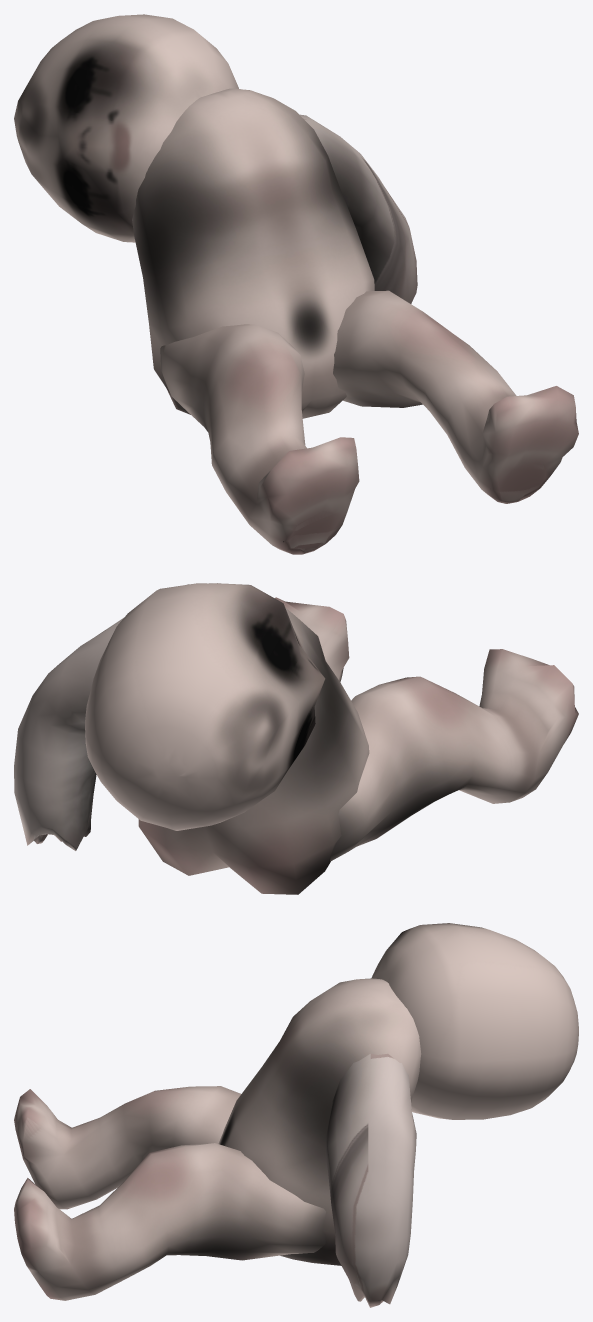
File: Doll03.FBX
The picture shows the model from 3 angles, top to bottom: view 1: azimuth 30°, elevation 25°; view 2: azimuth 150°, elevation 25°; view 3: azimuth 270°, elevation 25°; orthographic projection. The views are drawn at different scales.
Visible parts, largest first — view 1: Object002; view 2: Object002; view 3: Object002.
Part boxes in pixels (bbox=[...]): Object002: bbox=[14, 14, 578, 554]; Object002: bbox=[14, 583, 578, 894]; Object002: bbox=[14, 923, 578, 1307].
Bounding box in the file's own units: 90.38 × 88.18 × 149.
